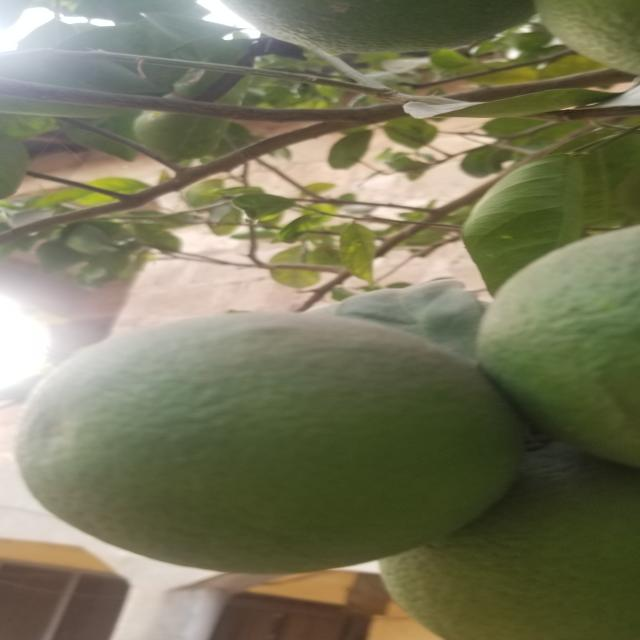Unripe: (19, 316, 538, 570), (382, 450, 627, 634), (490, 220, 640, 478), (219, 1, 539, 64), (529, 5, 640, 70)
